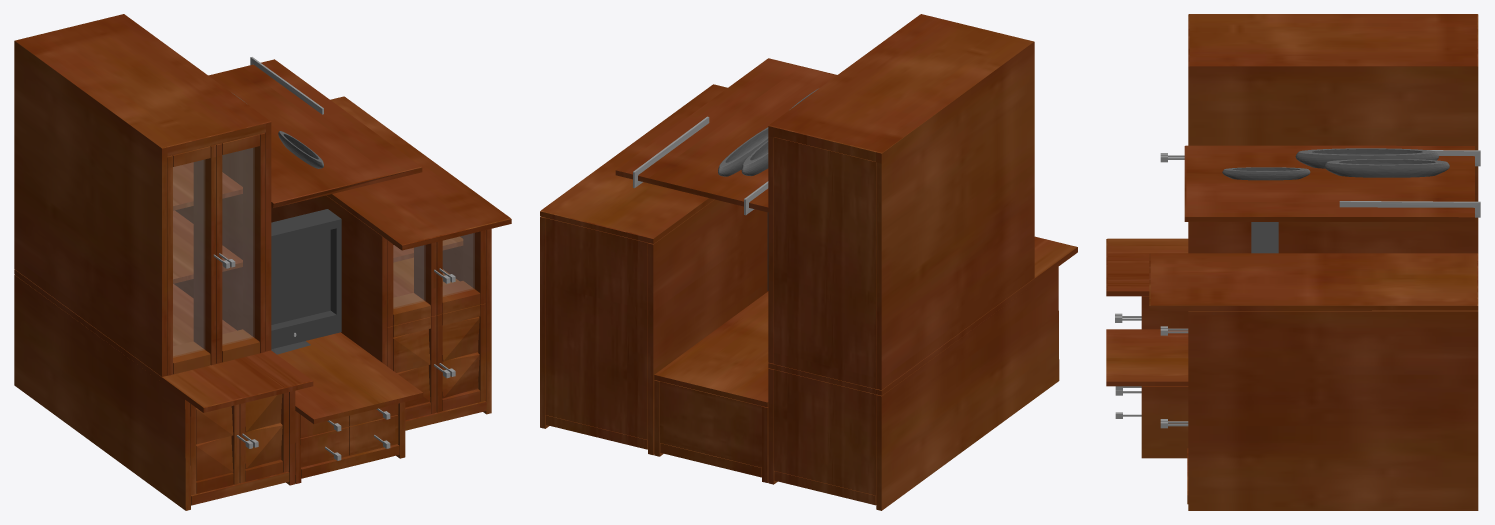
File: sh-scopia-contemp-living-room.glb
3 renders of one model, left to right at view 1: azimuth 30°, elevation 25°; view 2: azimuth 150°, elevation 25°; view 3: azimuth 270°, elevation 25°, orthographic. The views are drawn at different scales.
Visible parts, largest first — view 1: shelf_Cube.003, sideboard_Cube.002, tv_Cube.018, bowl2_Circle.003, shelfsuport2_Cube.017; view 2: shelf_Cube.003, bowl2_Circle.003, shelfsuport2_Cube.017; view 3: shelf_Cube.003, bowl2_Circle.003, shelfsuport2_Cube.017, sideboard_Cube.002, tv_Cube.018.
Boxes of the visible parts, x1=… form: shelf_Cube.003: x1=14, y1=14, x2=511, y2=510; sideboard_Cube.002: x1=173, y1=148, x2=474, y2=460; tv_Cube.018: x1=271, y1=209, x2=341, y2=354; bowl2_Circle.003: x1=232, y1=93, x2=323, y2=168; shelfsuport2_Cube.017: x1=250, y1=57, x2=323, y2=114; shelf_Cube.003: x1=540, y1=14, x2=1077, y2=510; bowl2_Circle.003: x1=718, y1=88, x2=818, y2=176; shelfsuport2_Cube.017: x1=633, y1=116, x2=768, y2=215; shelf_Cube.003: x1=1106, y1=14, x2=1478, y2=510; bowl2_Circle.003: x1=1222, y1=148, x2=1449, y2=180; shelfsuport2_Cube.017: x1=1339, y1=150, x2=1480, y2=217; sideboard_Cube.002: x1=1115, y1=153, x2=1188, y2=428; tv_Cube.018: x1=1251, y1=222, x2=1278, y2=253.
Bounding box in the file's own units: 0.9994 × 0.9991 × 1.
7 materials, 2 textured.
